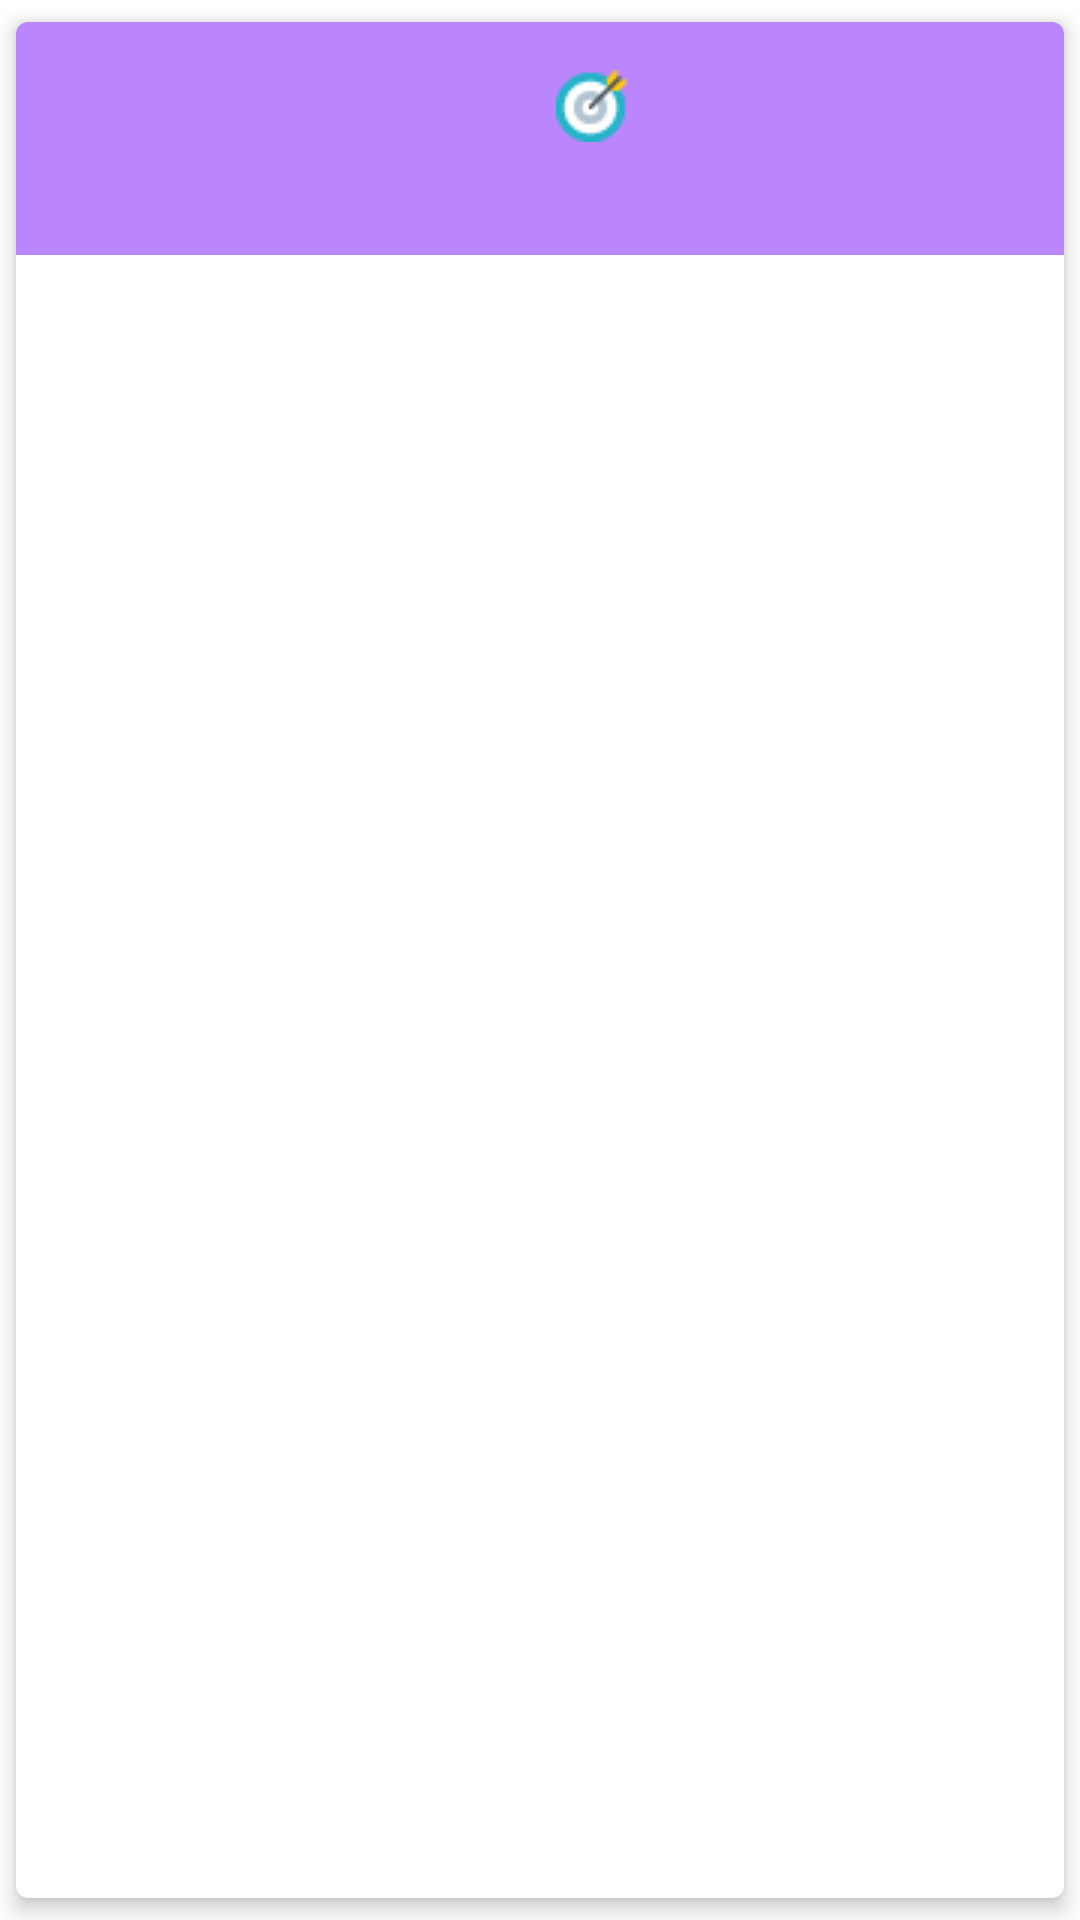

Icons on this 1080 × 1920 Android screen, each with its box as (left=x1, top=y1, right=x2, bottom=y2):
ambitious: (left=556, top=70, right=628, bottom=142)
